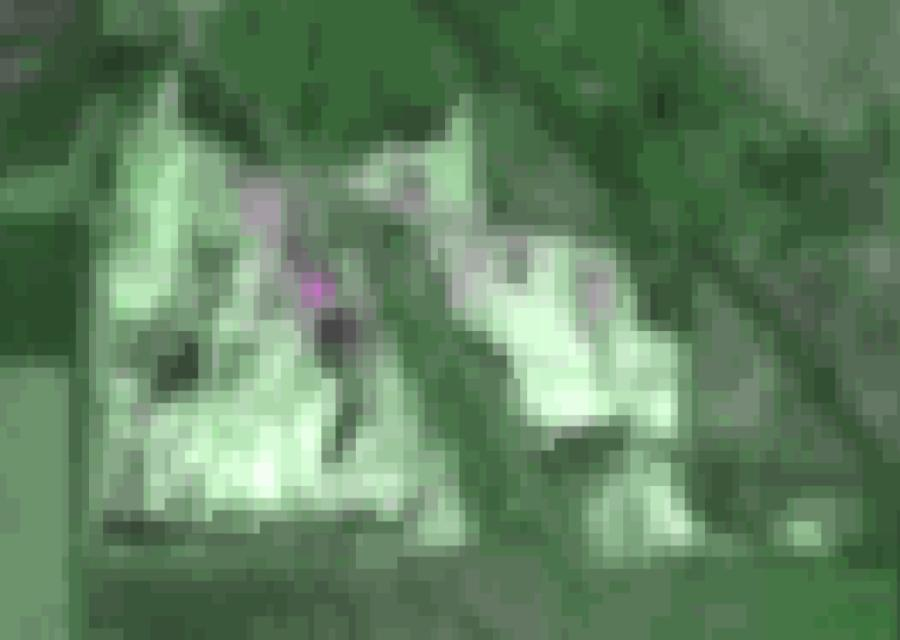Potential Lime Manufacturing Facility: (305, 277, 331, 304)
